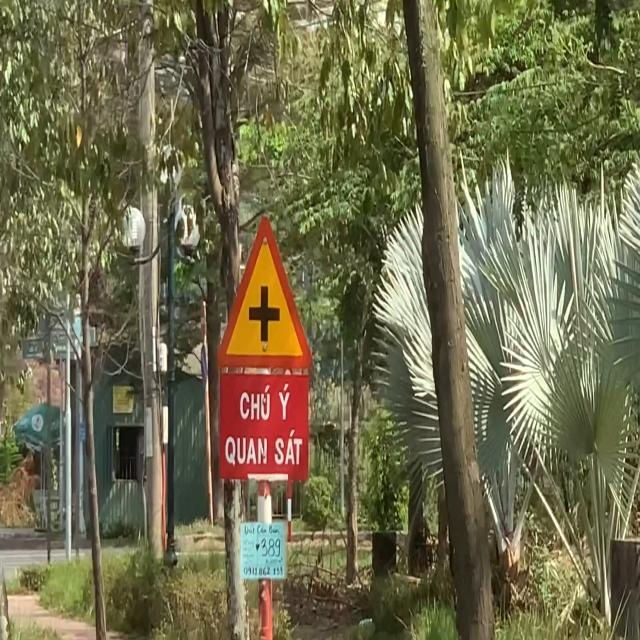bien_nguy_hiem: (216, 213, 313, 370)
